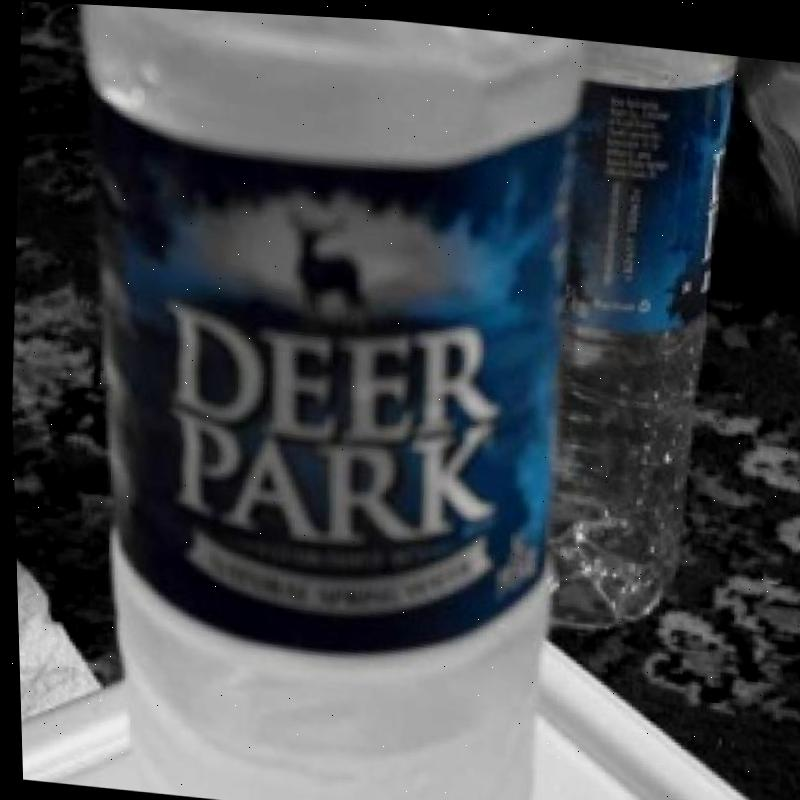botella: (34, 1, 604, 800), (531, 30, 748, 636)
